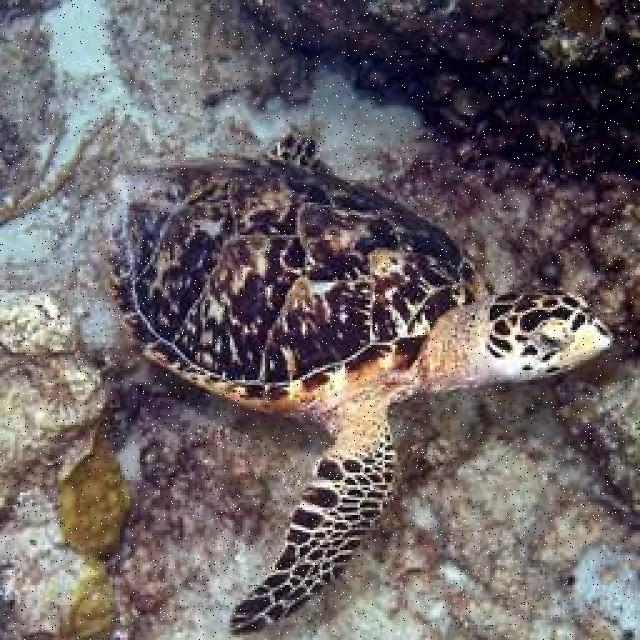fish: (94, 134, 613, 633)
